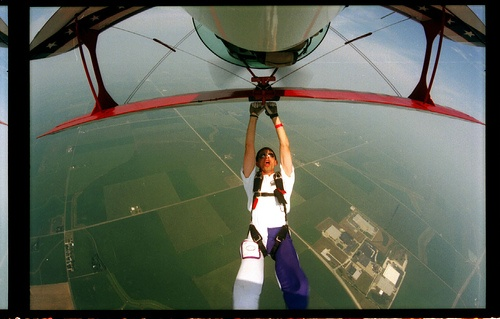head: (256, 147, 279, 174)
person: (236, 99, 309, 308)
